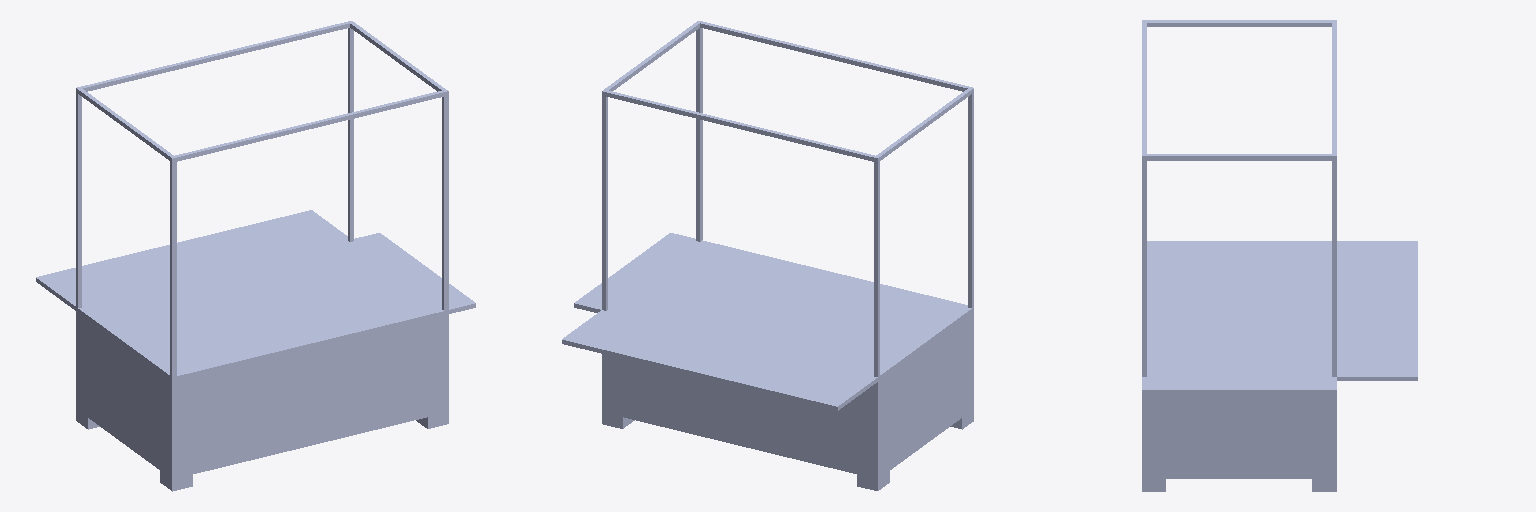
The robot description file, URDF, robot "table.SLDPRT":
<?xml version="1.0" encoding="utf-8"?>
<!-- This URDF was automatically created by SolidWorks to URDF Exporter! Originally created by [author] ([email redacted]) 
     Commit Version: 1.5.1-0-g916b5db  Build Version: 1.5.7152.31018
     For more information, please see http://wiki.ros.org/sw_urdf_exporter -->
<robot
  name="table.SLDPRT">
  <link
    name="table">
    <inertial>
      <origin
        xyz="0.0045671 0.014691 -0.33515"
        rpy="0 0 0" />
      <mass
        value="1718.4" />
      <inertia
        ixx="326.36"
        ixy="0.1153"
        ixz="-2.5125"
        iyy="674.86"
        iyz="8.08210000000001"
        izz="803.41" />
    </inertial>
    <visual>
      <origin
        xyz="0 0 0"
        rpy="1.5707963267949 0 0" />
      <geometry>
        <mesh
          filename="package://assembly_gazebo/urdfs/table/meshes/table.STL" />
      </geometry>
      <material
        name="">
        <color
          rgba="0.79216 0.81961 0.93333 1" />
        <texture
          filename="package://assembly_gazebo/urdfs/table/textures/" />
      </material>
    </visual>
    <collision>
      <origin
        xyz="0 0 0"
        rpy="1.5707963267949 0 0" />
      <geometry>
        <mesh
          filename="package://assembly_gazebo/urdfs/table/meshes/table.STL" />
      </geometry>
    </collision>
  </link>

  <gazebo reference="table">
		<material>Gazebo/Orange</material>
	</gazebo>

</robot>

--- Render facts (derived) ---
The picture shows the robot from 3 angles, left to right: view 1: azimuth 30°, elevation 25°; view 2: azimuth 150°, elevation 25°; view 3: azimuth 270°, elevation 25°; orthographic projection.
Model table.SLDPRT with 1 links and 0 joints (none), rooted at table, posed all joints at 0.
Visible links, largest first — view 1: table; view 2: table; view 3: table.
Boxes of the visible links, x1,y1,x2,y2 form: table: [36, 21, 475, 491]; table: [562, 21, 973, 490]; table: [1142, 20, 1417, 491].
Bounding box of the posed robot: 2.18 × 1.7 × 2.28 m (x, y, z).
1 mesh visuals loaded from 1 distinct referenced files (1 binary STL).